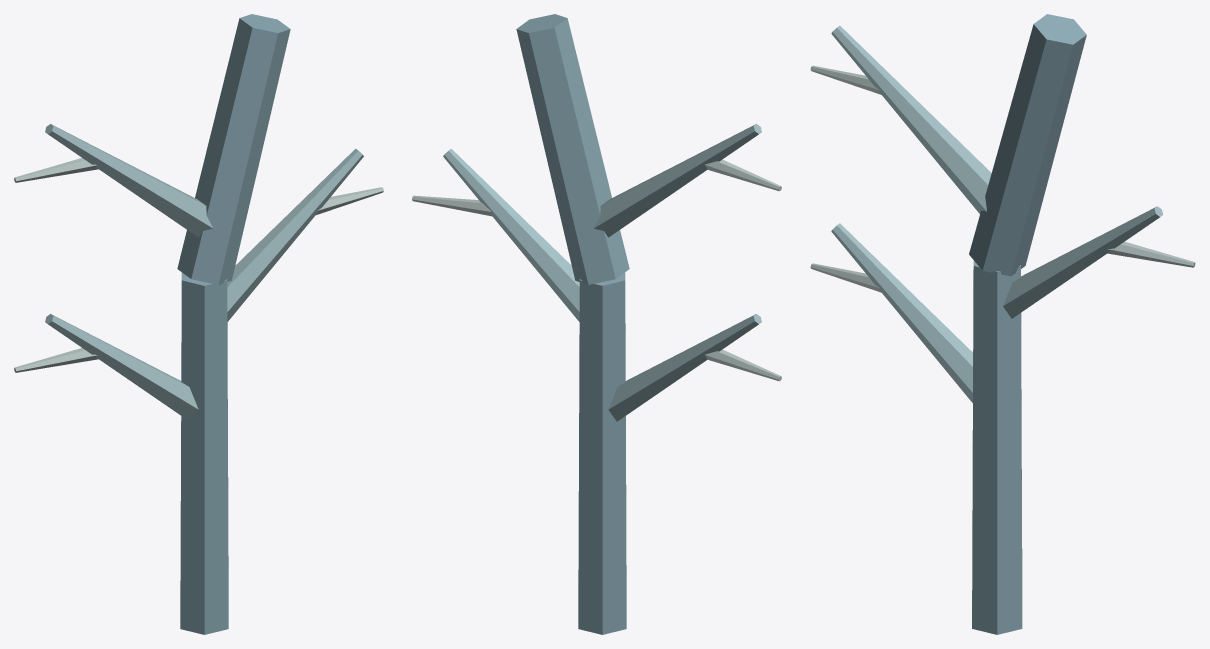
Rendered from map-exclusive-v3__frost_02.glb.
The picture shows the model from 3 angles, left to right: view 1: azimuth 30°, elevation 25°; view 2: azimuth 150°, elevation 25°; view 3: azimuth 330°, elevation 25°; orthographic projection. The views are drawn at different scales.
Parts seen in each view (by area): view 1: frost_02; view 2: frost_02; view 3: frost_02.
Boxes of the visible parts, <box> form: frost_02: <box>14,14,383,634</box>; frost_02: <box>412,14,781,634</box>; frost_02: <box>810,14,1195,634</box>.
Bounding box in the file's own units: 1.82 × 2.8 × 0.2401.
